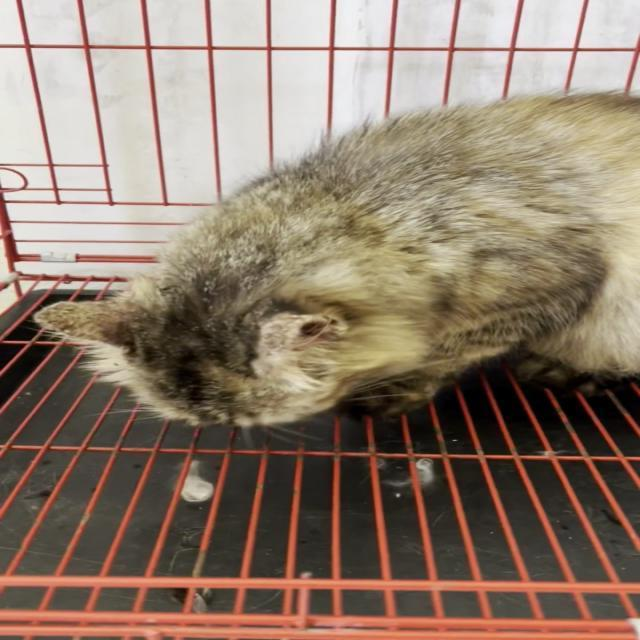ghe: (230, 304, 361, 366)
